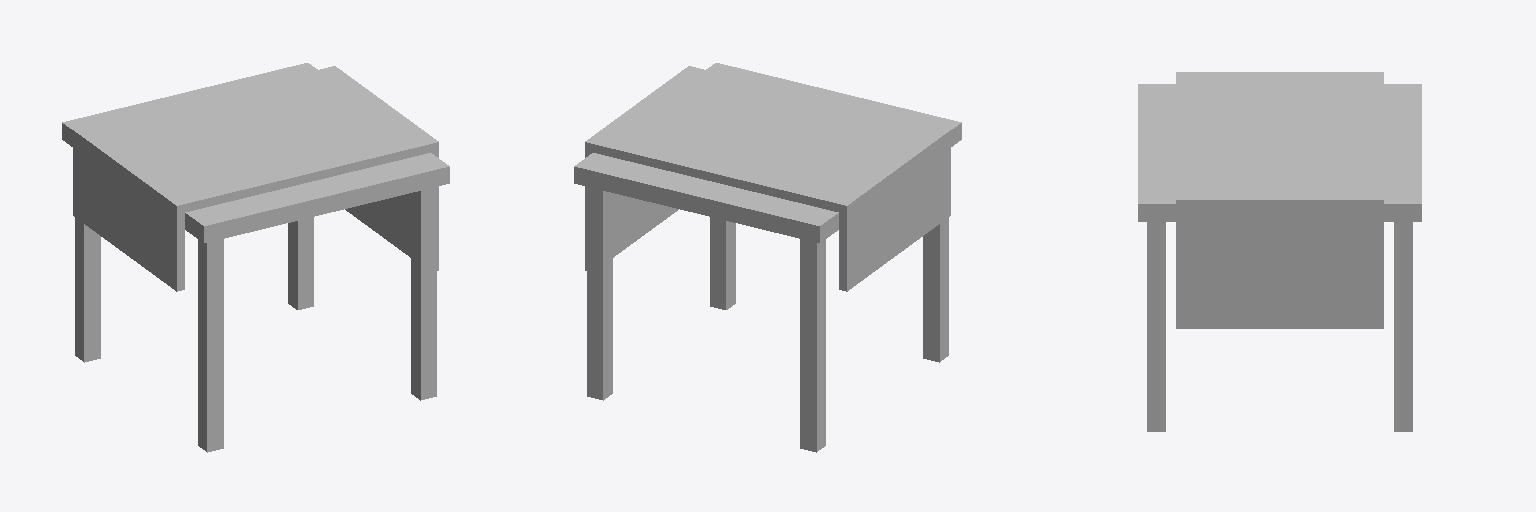
File: table.obj
The picture shows the model from 3 angles: view 1: azimuth 30°, elevation 25°; view 2: azimuth 150°, elevation 25°; view 3: azimuth 270°, elevation 25°; orthographic projection.
Visible parts, largest first — view 1: object 1; view 2: object 1; view 3: object 1.
Boxes of the visible parts, box(x1,y1,x2,y2) form: object 1: box(62, 63, 449, 452); object 1: box(574, 63, 961, 452); object 1: box(1138, 72, 1421, 431).
Size of the model in its own units: 3.2 by 2.8 by 3.